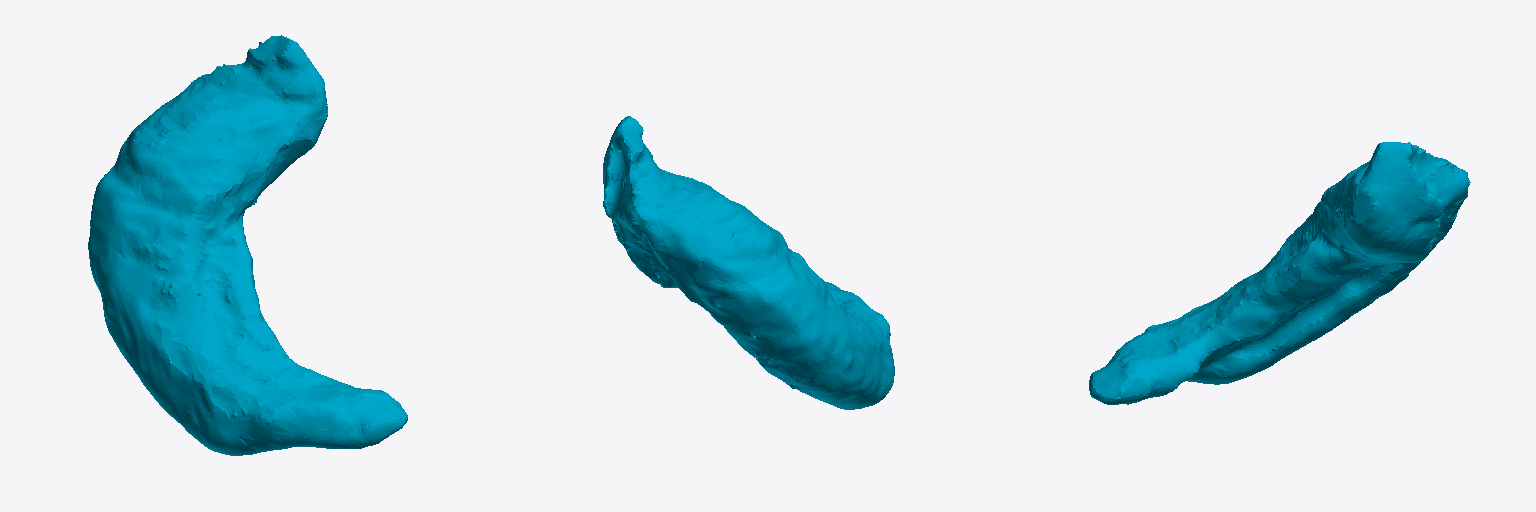
File: Model_10151_LH__Hippocampal_formation_(HipF).obj
3 renders of one model, left to right at view 1: azimuth 30°, elevation 25°; view 2: azimuth 150°, elevation 25°; view 3: azimuth 270°, elevation 25°, orthographic.
Bounding box in the file's own units: 7.29 × 9.38 × 10.37.